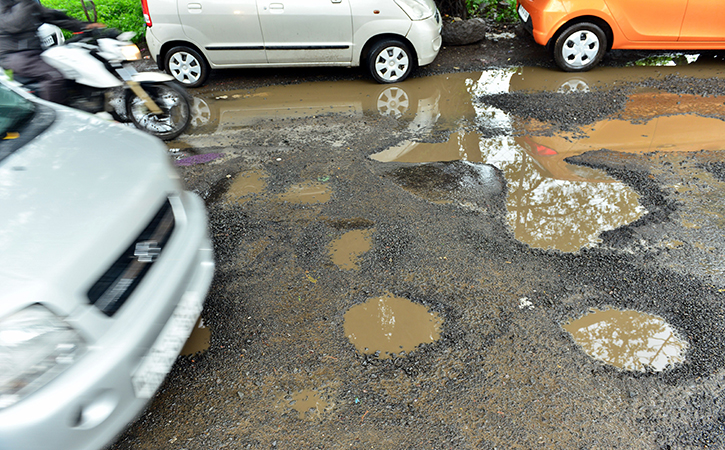pothole: (379, 99, 723, 251), (544, 283, 699, 383), (334, 282, 467, 364), (278, 168, 348, 223), (218, 143, 272, 210), (177, 318, 217, 362)
